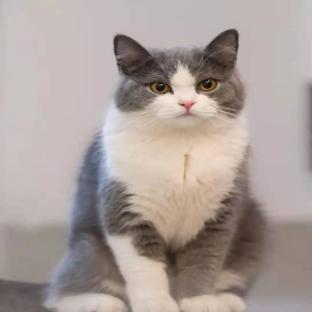Animal: (45, 29, 265, 312)
